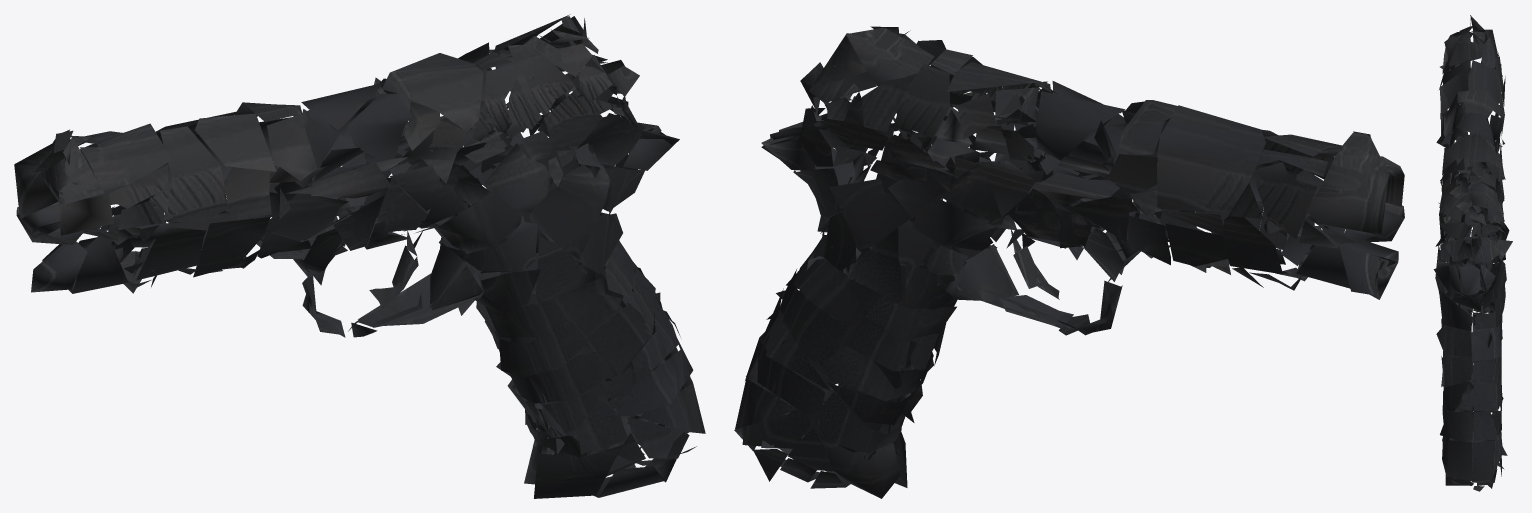
The model's file is pistol.glb.
The picture shows the model from 3 angles, left to right: view 1: azimuth 30°, elevation 25°; view 2: azimuth 150°, elevation 25°; view 3: azimuth 270°, elevation 25°; orthographic projection. The views are drawn at different scales.
Visible parts, largest first — view 1: Mesh_0; view 2: Mesh_0; view 3: Mesh_0.
Part boxes in pixels (left/top/right/bottom): Mesh_0: left=14, top=14, right=705, bottom=498; Mesh_0: left=734, top=26, right=1404, bottom=498; Mesh_0: left=1433, top=15, right=1512, bottom=491.
Bounding box in the file's own units: 1.91 × 1.34 × 0.3372.
Materials: 1 (1 with a texture image).
